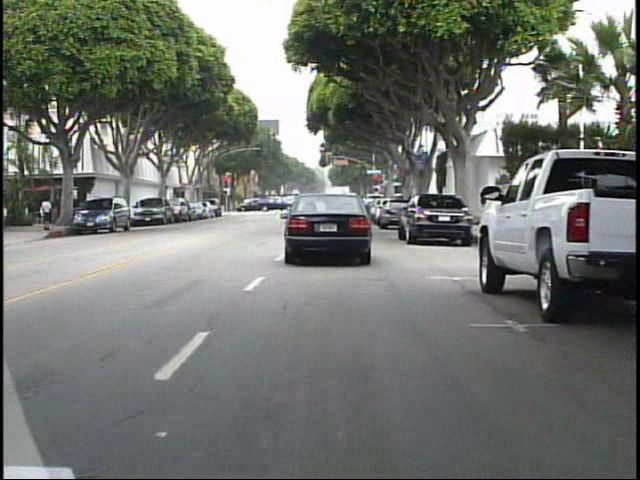person: (41, 194, 58, 233), (265, 193, 279, 217)
